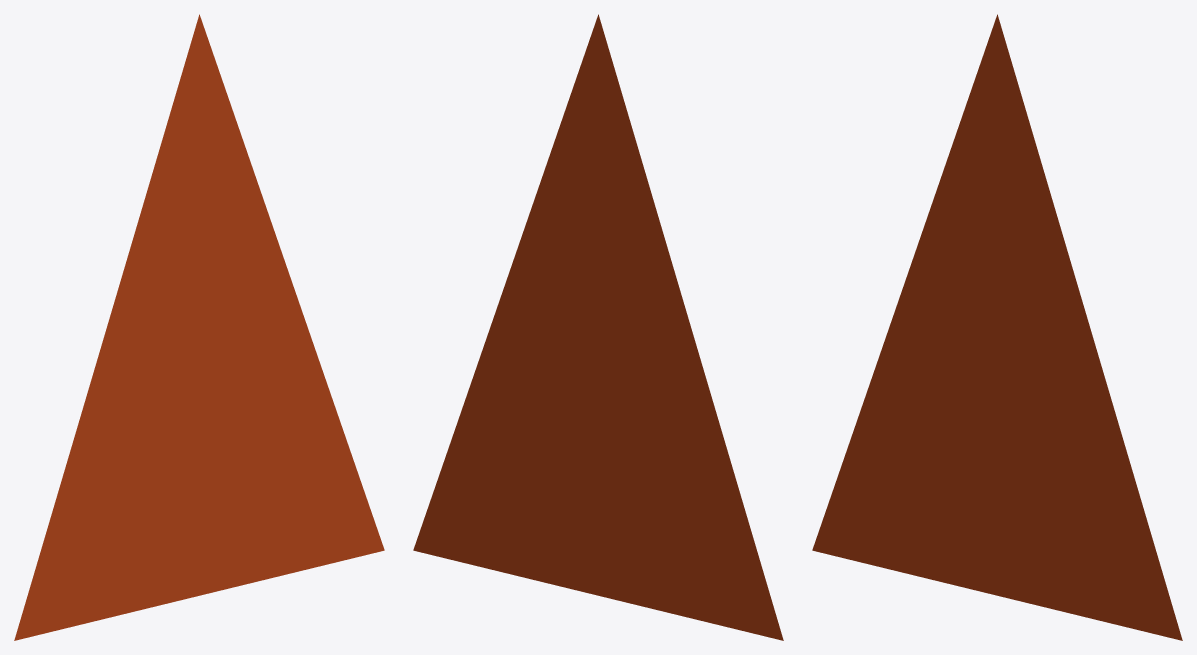
File: PbrTriangle.fbx
The picture shows the model from 3 angles, left to right: view 1: azimuth 30°, elevation 25°; view 2: azimuth 150°, elevation 25°; view 3: azimuth 330°, elevation 25°; orthographic projection.
Parts seen in each view (by area): view 1: Triangle; view 2: Triangle; view 3: Triangle.
Boxes of the visible parts, left/top/right/bottom form: Triangle: left=14, top=14, right=384, bottom=640; Triangle: left=413, top=14, right=783, bottom=640; Triangle: left=812, top=14, right=1182, bottom=640.
Size of the model in its own units: 120 by 180 by 0.
